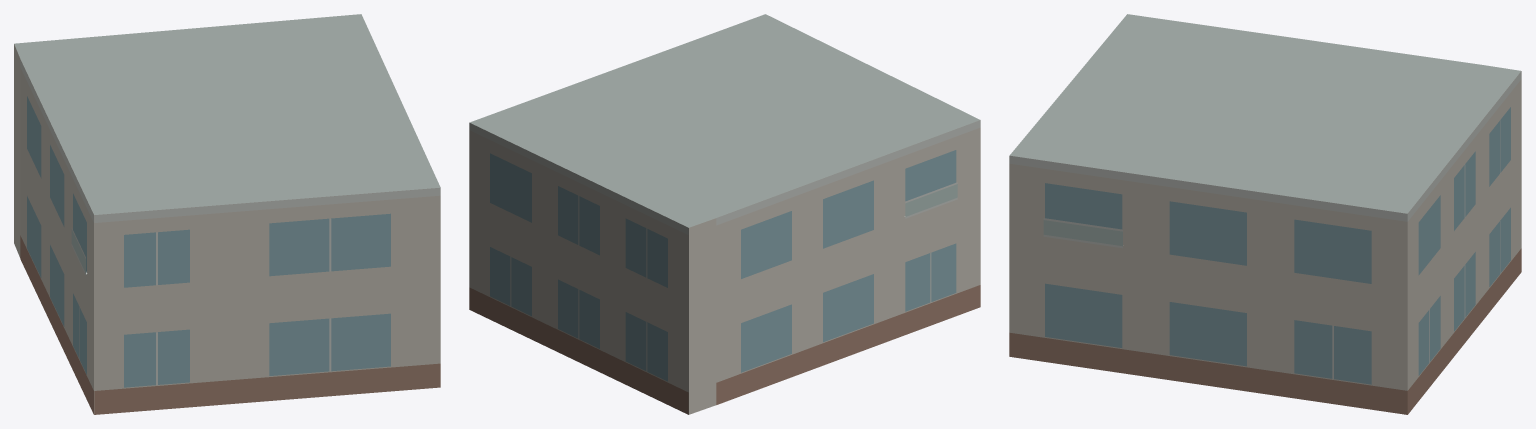
The model's file is survey-upis-32902056.glb.
The picture shows the model from 3 angles, left to right: view 1: azimuth 30°, elevation 25°; view 2: azimuth 150°, elevation 25°; view 3: azimuth 270°, elevation 25°; orthographic projection. The views are drawn at different scales.
Parts seen in each view (by area): view 1: survey-upis-32902056.tmp; view 2: survey-upis-32902056.tmp; view 3: survey-upis-32902056.tmp.
Part boxes in pixels (bbox=[...]): survey-upis-32902056.tmp: bbox=[14, 14, 440, 414]; survey-upis-32902056.tmp: bbox=[469, 14, 980, 414]; survey-upis-32902056.tmp: bbox=[1009, 14, 1521, 414].
Bounding box in the file's own units: 13.01 × 6.1 × 14.09.
